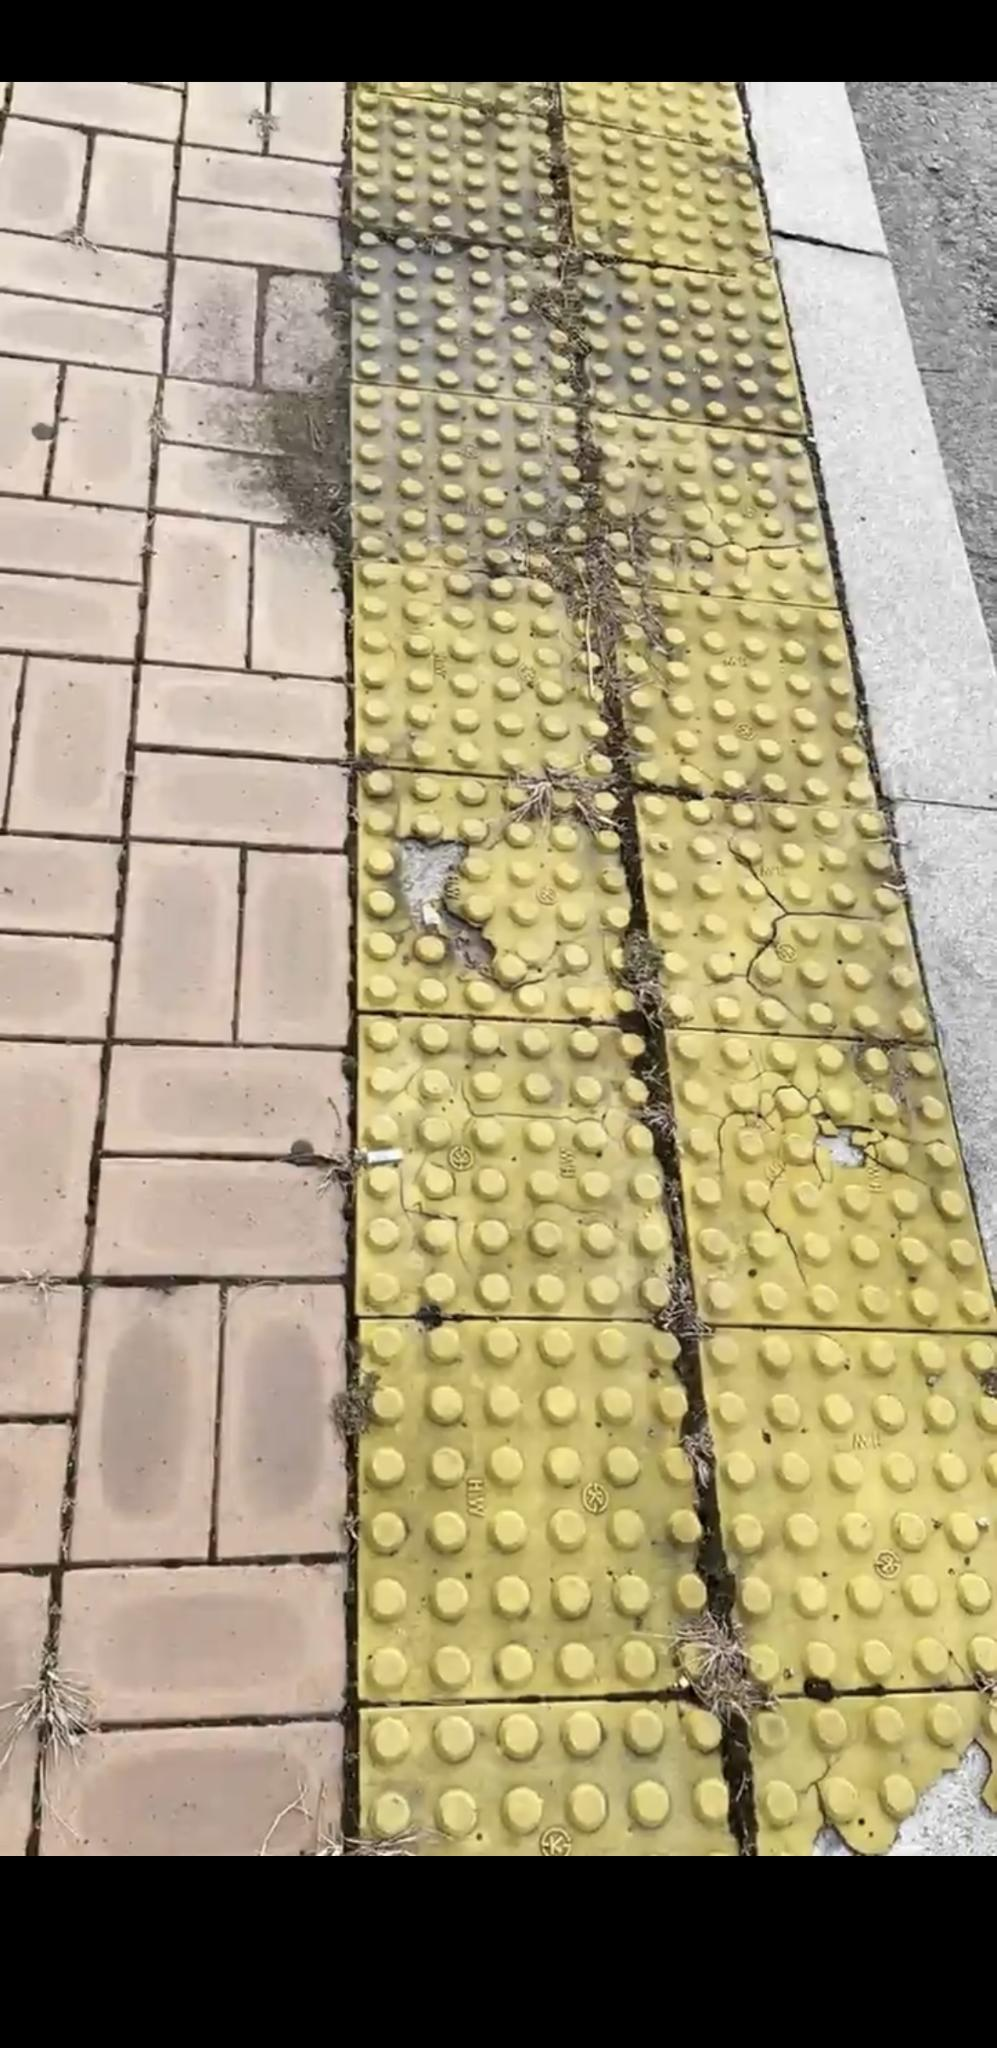Stop block broken: (668, 1031, 994, 1327), (358, 769, 643, 1023), (639, 795, 933, 1036)
Stop block normal: (362, 1319, 723, 1698), (612, 586, 878, 806), (355, 563, 619, 781)
